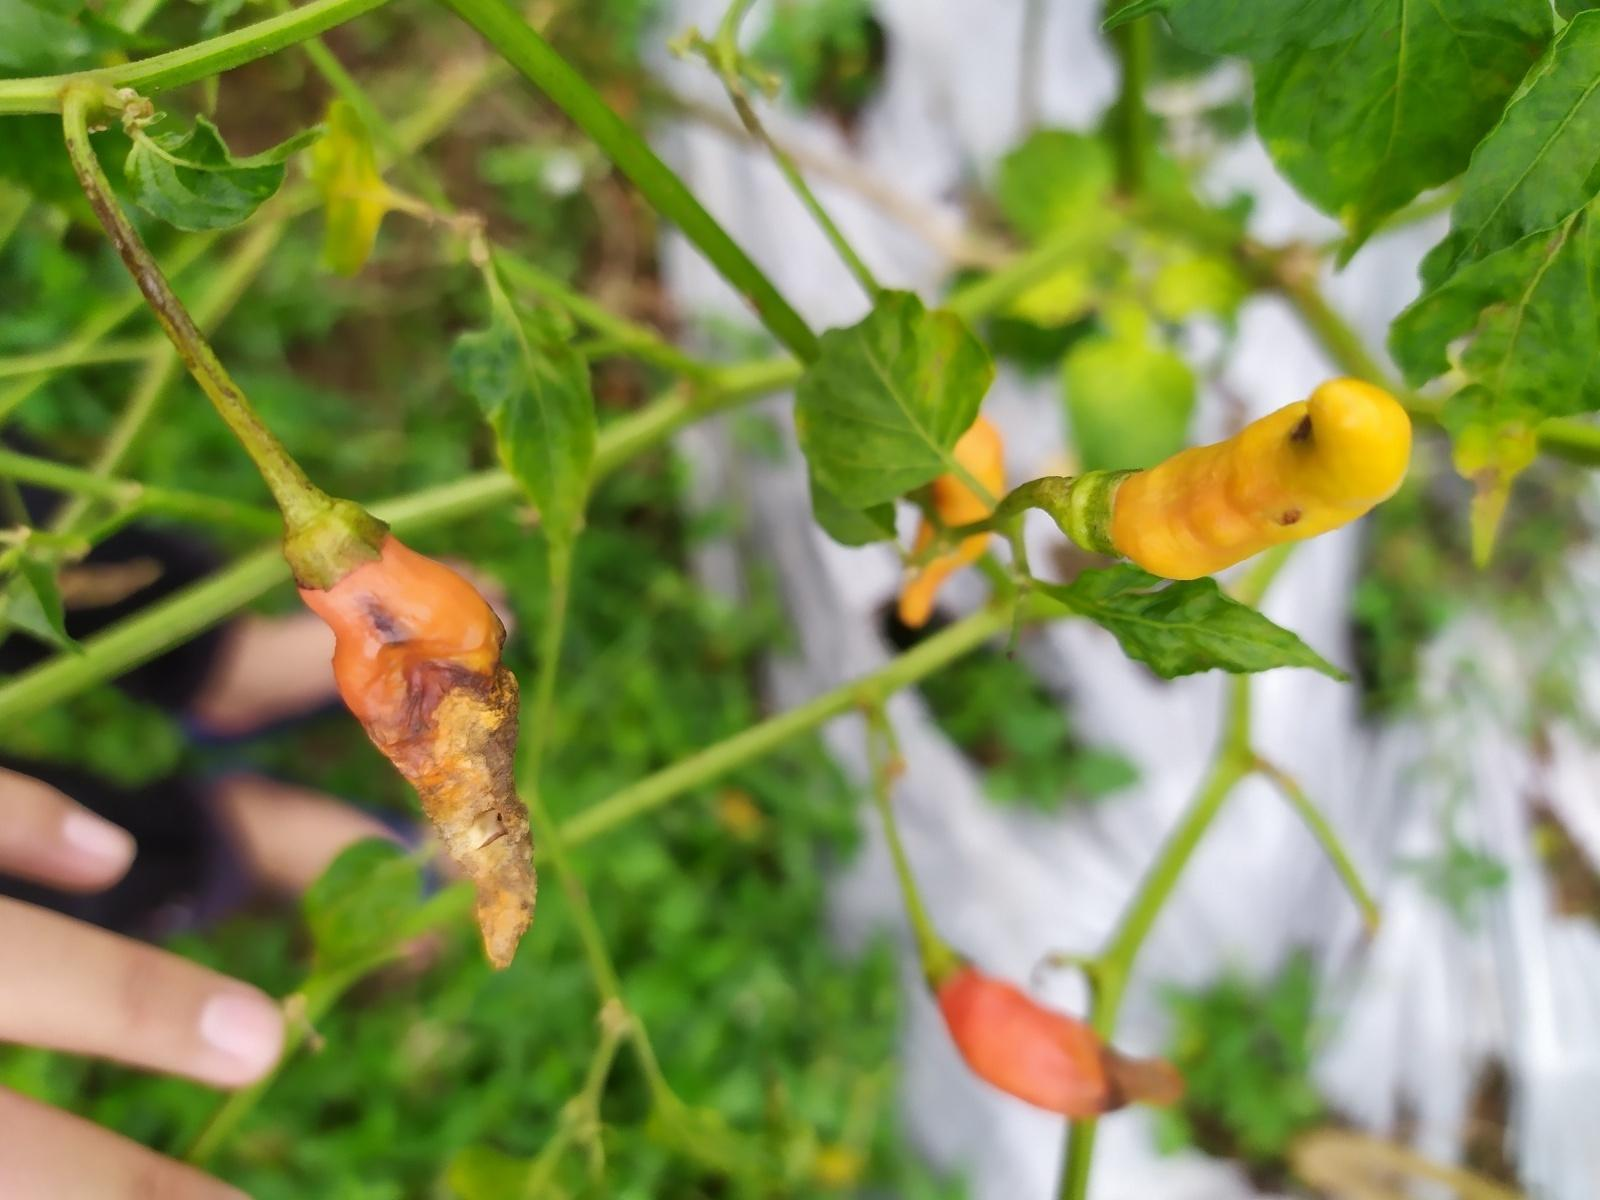antraknosa: (291, 523, 538, 971), (930, 959, 1191, 1123)
lalat_buah: (1097, 377, 1415, 582)
